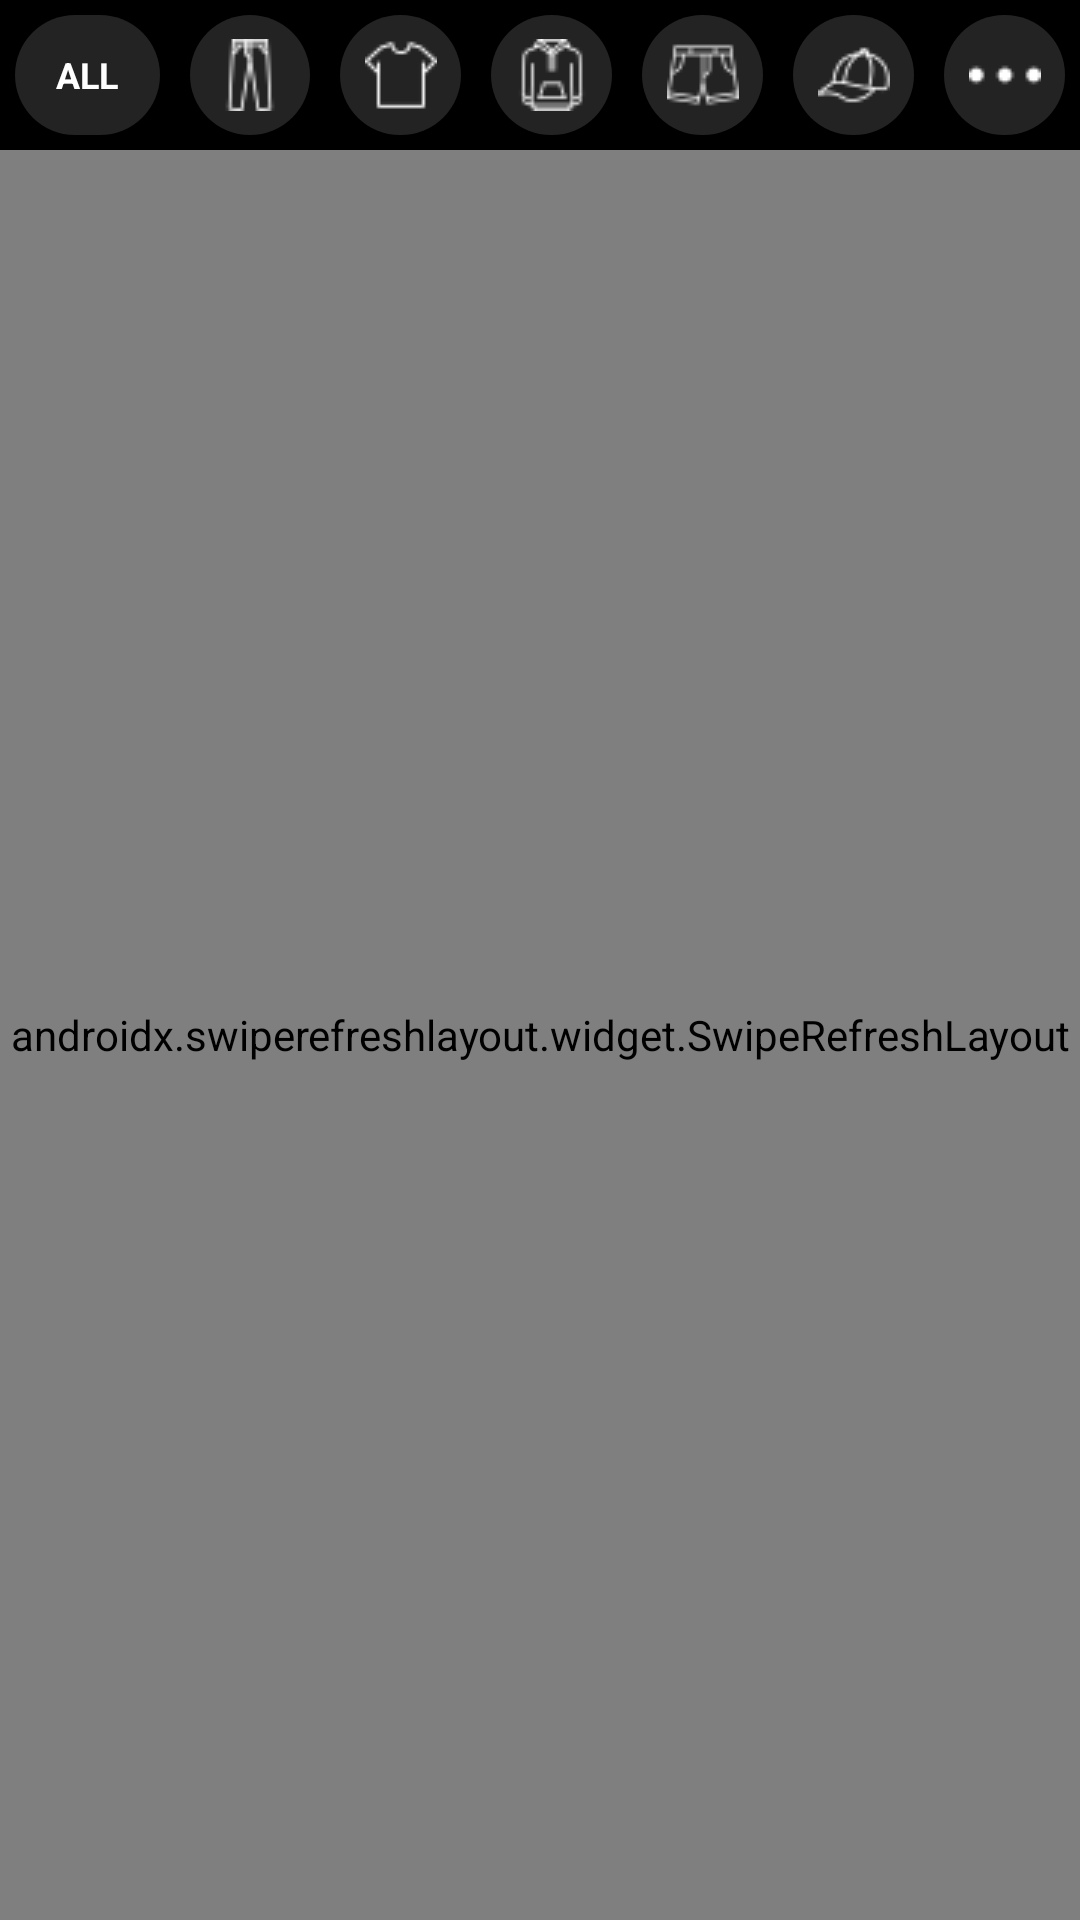

Icon bounding boxes for this 1080 x 1920 phone screenshot, format bbox=[x1, y1, x2, y2]:
cap: bbox=[793, 15, 914, 135]
hoodie: bbox=[491, 15, 612, 135]
jeans: bbox=[190, 15, 310, 135]
more: bbox=[944, 15, 1065, 135]
shorts: bbox=[642, 15, 763, 135]
tshirt: bbox=[340, 15, 461, 135]
